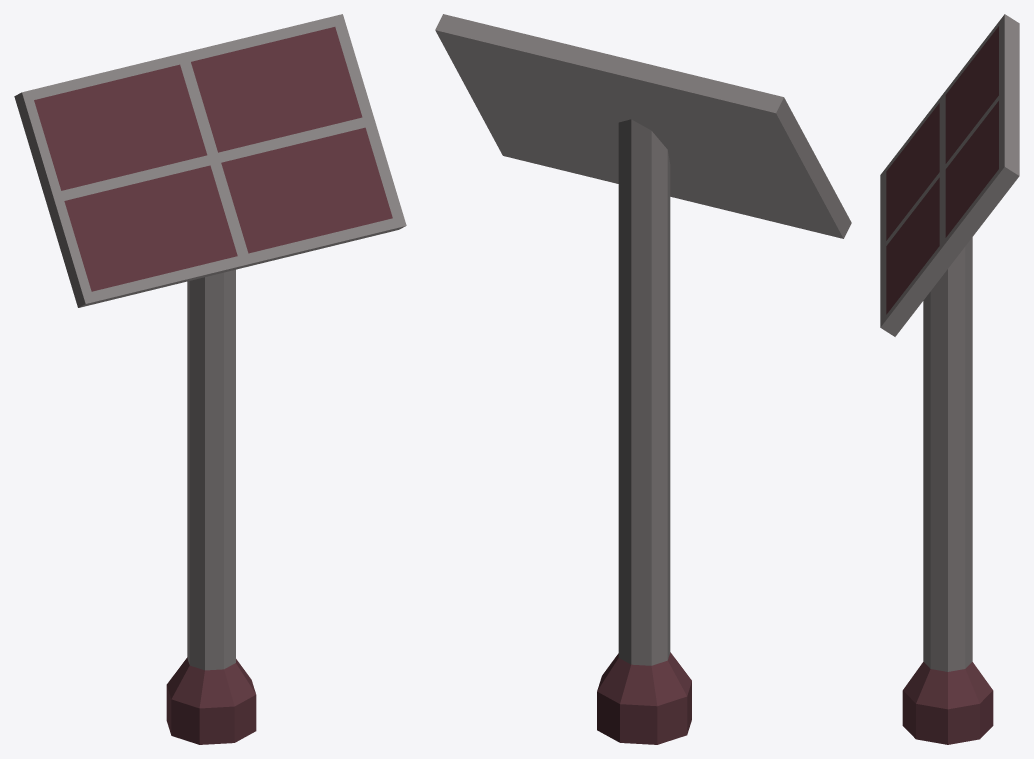
The model's file is scifi-scifi-solar-panel-small.glb.
The picture shows the model from 3 angles, left to right: view 1: azimuth 30°, elevation 25°; view 2: azimuth 150°, elevation 25°; view 3: azimuth 270°, elevation 25°; orthographic projection. The views are drawn at different scales.
Visible parts, largest first — view 1: scifi-solar-panel-small; view 2: scifi-solar-panel-small; view 3: scifi-solar-panel-small.
Boxes of the visible parts, x1,y1,x2,y2 form: scifi-solar-panel-small: (14, 14, 406, 744); scifi-solar-panel-small: (435, 14, 851, 744); scifi-solar-panel-small: (880, 14, 1019, 744).
Size of the model in its own units: 0.8 by 1.55 by 0.3081.
